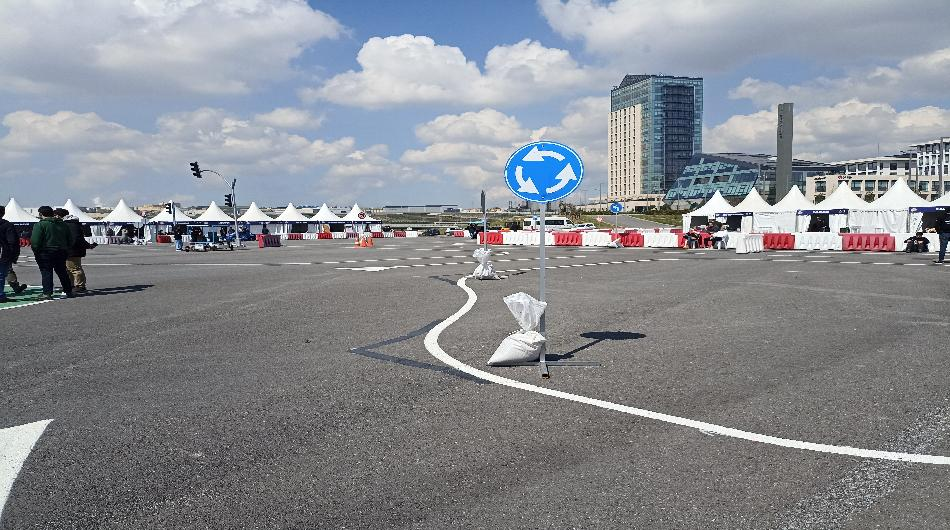ada: (504, 140, 582, 202)
